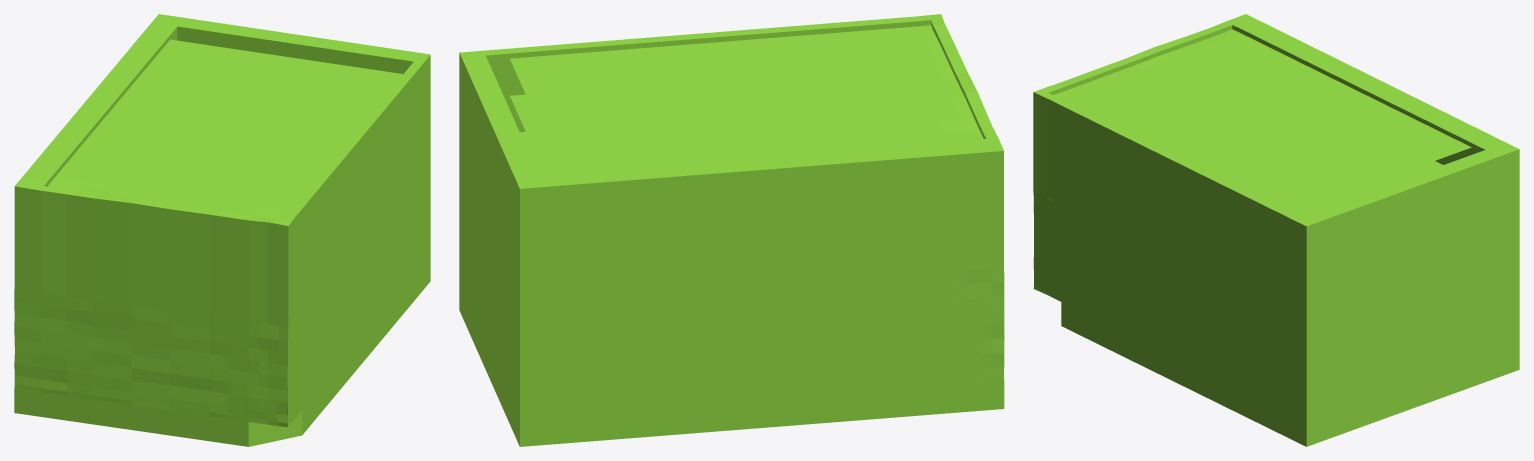
File: Charles Street.fbx
3 renders of one model, left to right at view 1: azimuth 30°, elevation 25°; view 2: azimuth 150°, elevation 25°; view 3: azimuth 270°, elevation 25°, orthographic. The views are drawn at different scales.
Visible parts, largest first — view 1: Charles Street; view 2: Charles Street; view 3: Charles Street.
Boxes of the visible parts, x1=… form: Charles Street: x1=14, y1=14, x2=430, y2=446; Charles Street: x1=459, y1=14, x2=1004, y2=446; Charles Street: x1=1033, y1=14, x2=1519, y2=446.
Bounding box in the file's own units: 5953 × 2888 × 5756.
